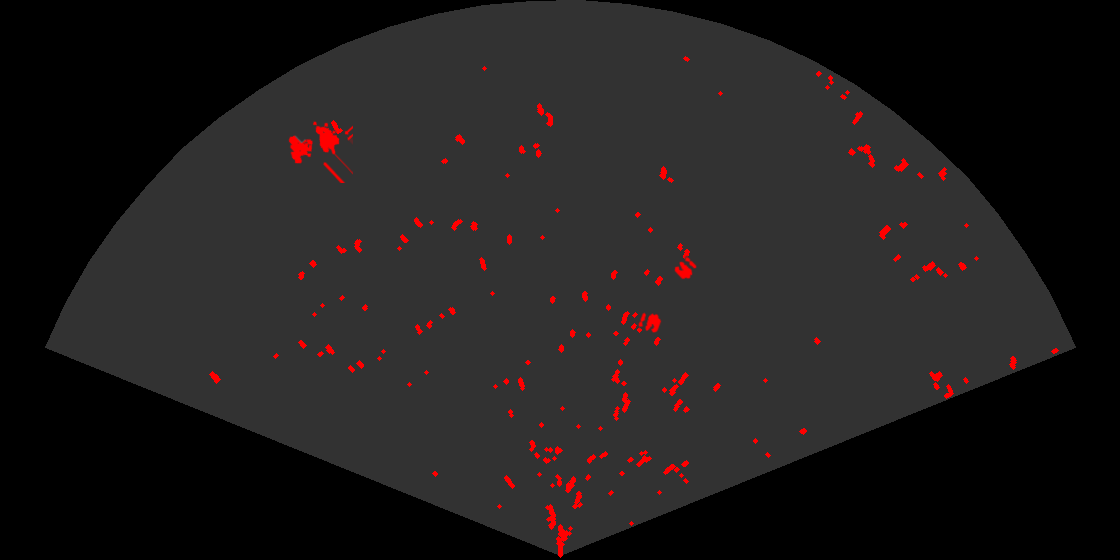ball: (673, 255, 698, 281), (637, 311, 663, 334)
cage: (287, 120, 353, 183)
